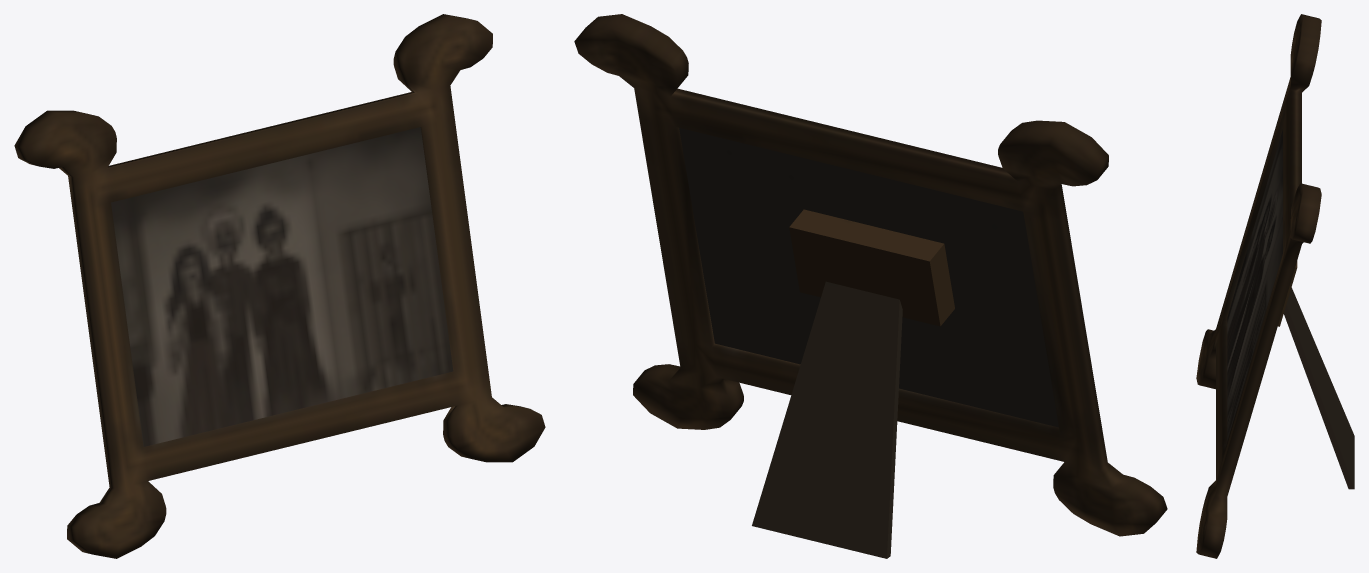
File: Photoframe.fbx
3 views of the same model, side by side, from view 1: azimuth 30°, elevation 25°; view 2: azimuth 150°, elevation 25°; view 3: azimuth 270°, elevation 25° (orthographic). The views are drawn at different scales.
Parts seen in each view (by area): view 1: Photo_Pic, Photo_Frame; view 2: Photo_Frame, Photo_Pic, Photo_Stand, Photo_Support; view 3: Photo_Frame, Photo_Pic, Photo_Stand.
Part boxes in pixels (x1,y1,x2,y2): Photo_Pic: (111,127,453,446); Photo_Frame: (14,14,545,558); Photo_Frame: (574,14,1167,536); Photo_Pic: (679,127,1058,427); Photo_Stand: (752,281,902,558); Photo_Support: (789,209,954,326); Photo_Frame: (1196,14,1321,558); Photo_Pic: (1227,129,1282,440); Photo_Stand: (1283,287,1354,489).
Bounding box in the file's own units: 2.94 × 2.44 × 0.9549.
